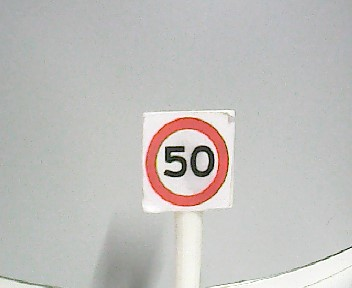50-bord: (145, 116, 229, 208)
